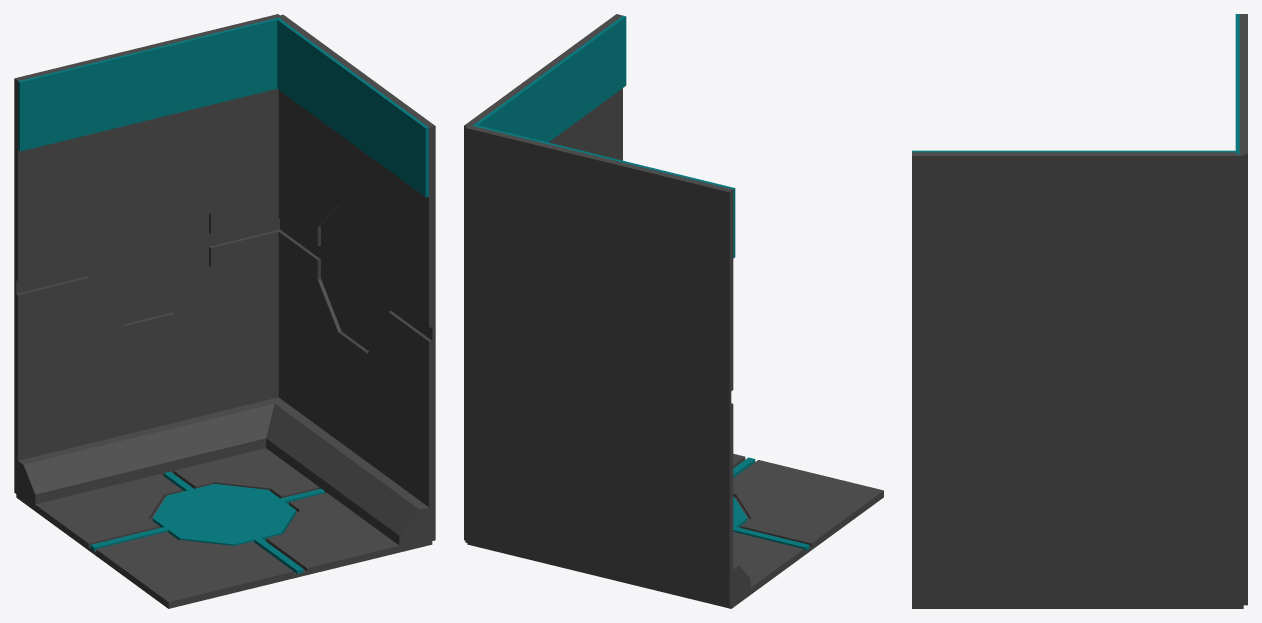
The model's file is Sci Fi Wall Corner 1.glb.
3 renders of one model, left to right at view 1: azimuth 30°, elevation 25°; view 2: azimuth 150°, elevation 25°; view 3: azimuth 270°, elevation 25°, orthographic. The views are drawn at different scales.
Visible parts, largest first — view 1: Wall.001, Wall, Cube, Wall_Panel, Triangle_Connecter, Wall_Panel.001, Triangle_Connecter.001, Floor_Oct; view 2: Wall.001, Cube, Wall_Panel.001, Wall, Wall_Panel, Triangle_Connecter; view 3: Wall, Wall.001, Wall_Panel.001, Wall_Panel, Cube.
Part boxes in pixels (bbox=[...]): Wall.001: bbox=[14, 14, 280, 493]; Wall: bbox=[277, 14, 435, 541]; Cube: bbox=[16, 448, 432, 608]; Wall_Panel: bbox=[18, 17, 282, 151]; Triangle_Connecter: bbox=[16, 397, 283, 504]; Wall_Panel.001: bbox=[277, 18, 428, 197]; Triangle_Connecter.001: bbox=[266, 401, 432, 548]; Floor_Oct: bbox=[152, 484, 295, 545]; Wall.001: bbox=[465, 126, 733, 606]; Cube: bbox=[467, 453, 883, 608]; Wall_Panel.001: bbox=[474, 15, 626, 142]; Wall: bbox=[464, 14, 622, 540]; Wall_Panel: bbox=[471, 124, 735, 258]; Triangle_Connecter: bbox=[731, 564, 750, 605]; Wall: bbox=[912, 152, 1243, 606]; Wall.001: bbox=[1239, 14, 1247, 605]; Wall_Panel.001: bbox=[912, 150, 1235, 152]; Wall_Panel: bbox=[1235, 14, 1239, 154]; Cube: bbox=[912, 607, 1243, 608].
Bounding box in the file's own units: 4.05 × 6.05 × 4.05.
